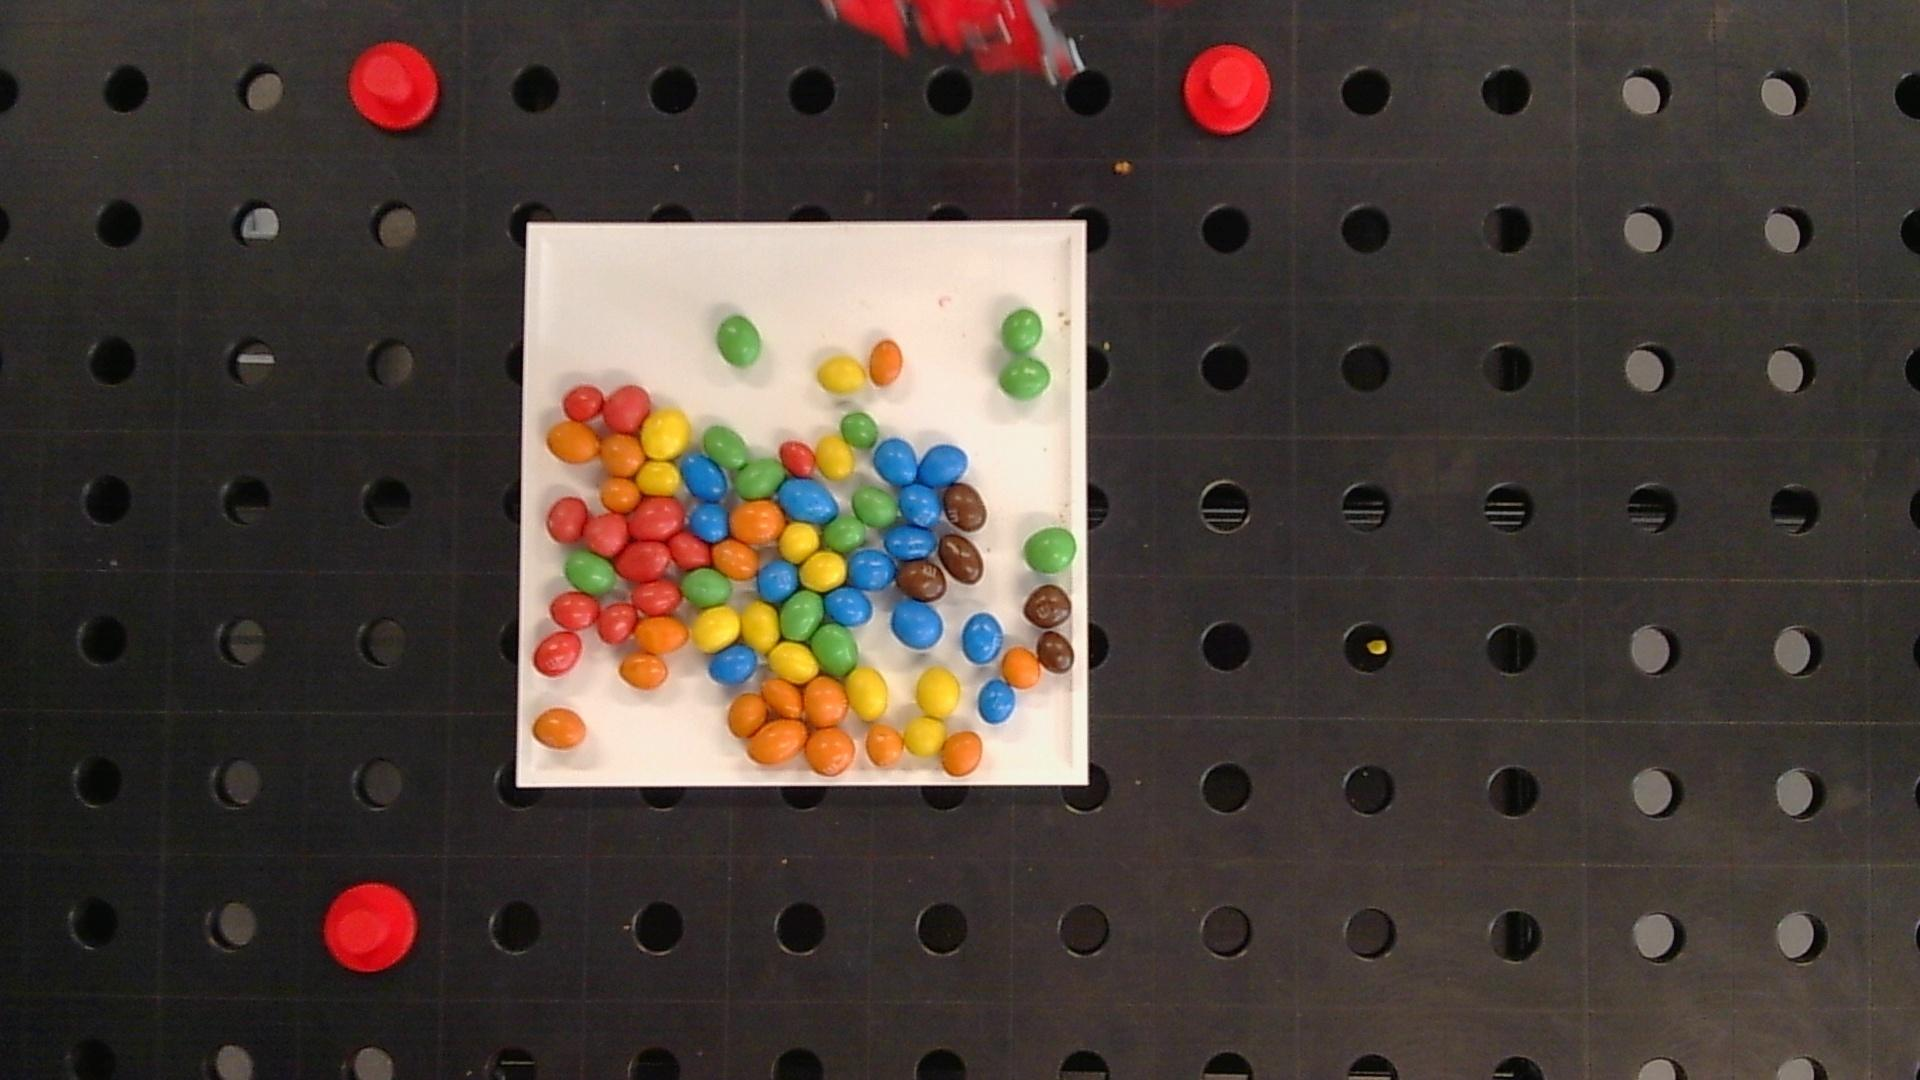blue: (884, 527, 947, 600), (779, 479, 840, 522), (890, 600, 944, 649), (680, 455, 728, 500), (874, 438, 918, 485), (963, 613, 1004, 663), (709, 645, 758, 684), (919, 444, 968, 484), (849, 550, 897, 589), (899, 484, 942, 527), (825, 588, 873, 626), (884, 526, 934, 559), (758, 560, 799, 600), (978, 679, 1015, 723), (688, 504, 729, 541)
brown: (939, 534, 984, 584), (1023, 584, 1072, 628), (944, 483, 986, 531), (1038, 632, 1075, 673)
green: (812, 624, 858, 675), (1025, 527, 1077, 572), (717, 315, 762, 367), (564, 550, 616, 595), (1000, 357, 1051, 400), (779, 591, 823, 640), (735, 458, 785, 497), (703, 426, 749, 468), (682, 568, 732, 607), (1001, 309, 1043, 353), (852, 487, 897, 527), (823, 514, 866, 551), (841, 413, 878, 447)
orange: (748, 719, 807, 764), (806, 728, 856, 775), (732, 502, 785, 543), (533, 708, 587, 748), (547, 422, 600, 462), (804, 678, 848, 725), (634, 616, 688, 651), (600, 433, 644, 475), (942, 732, 982, 777), (713, 539, 760, 579), (620, 653, 669, 690), (728, 692, 766, 736), (865, 725, 905, 766), (1002, 647, 1040, 687), (762, 678, 802, 716), (869, 340, 902, 384), (601, 479, 641, 510)
red: (617, 541, 670, 582), (630, 498, 684, 538), (604, 385, 650, 430), (534, 632, 582, 675), (585, 513, 629, 555), (546, 497, 587, 542), (550, 592, 599, 628), (632, 580, 680, 615), (597, 604, 637, 644), (563, 385, 604, 421), (670, 533, 709, 567), (779, 439, 815, 476)
yellow: (642, 410, 690, 458), (691, 607, 740, 651), (847, 667, 887, 720), (916, 667, 960, 716), (770, 644, 819, 682), (802, 551, 847, 591), (818, 356, 865, 393), (741, 603, 778, 650), (815, 435, 855, 479), (779, 524, 820, 562), (905, 717, 945, 754), (637, 460, 679, 495)
